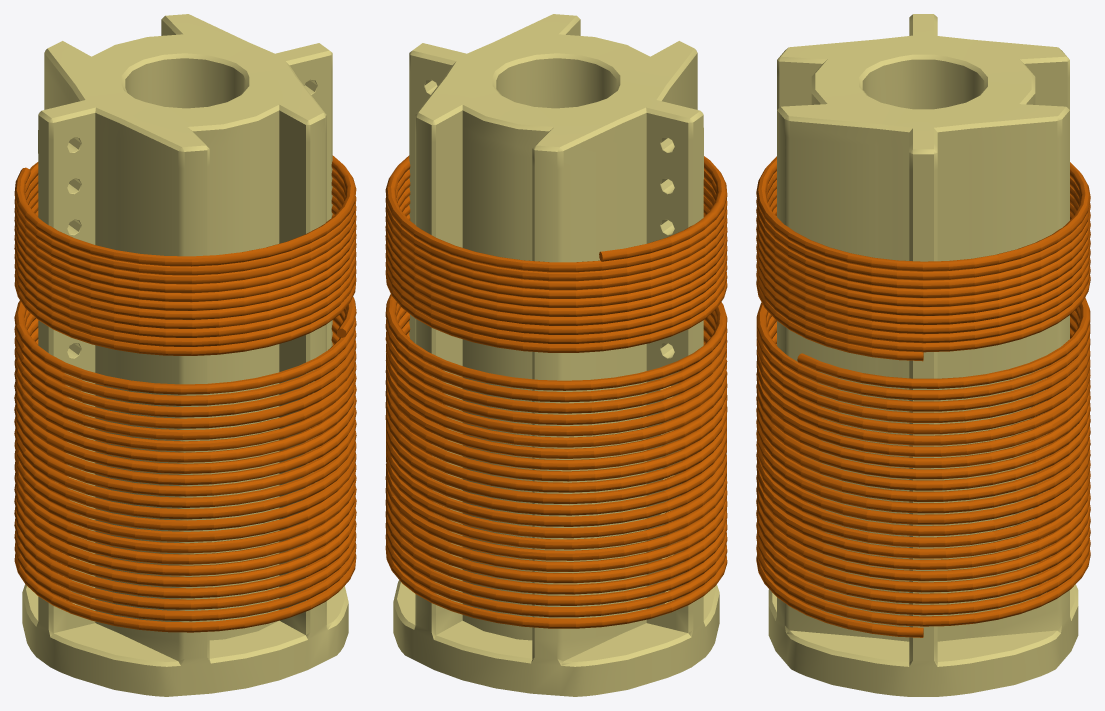
Rendered from ind012.fbx.
The picture shows the model from 3 angles, left to right: view 1: azimuth 30°, elevation 25°; view 2: azimuth 150°, elevation 25°; view 3: azimuth 270°, elevation 25°; orthographic projection.
Parts seen in each view (by area): view 1: ind012_LOD0; view 2: ind012_LOD0; view 3: ind012_LOD0.
Boxes of the visible parts, x1,y1,x2,y2 form: ind012_LOD0: (14, 14, 356, 696); ind012_LOD0: (385, 14, 727, 696); ind012_LOD0: (756, 14, 1090, 696).
Size of what is drawn, in the model's own units: 1.38 by 2.42 by 1.35.
